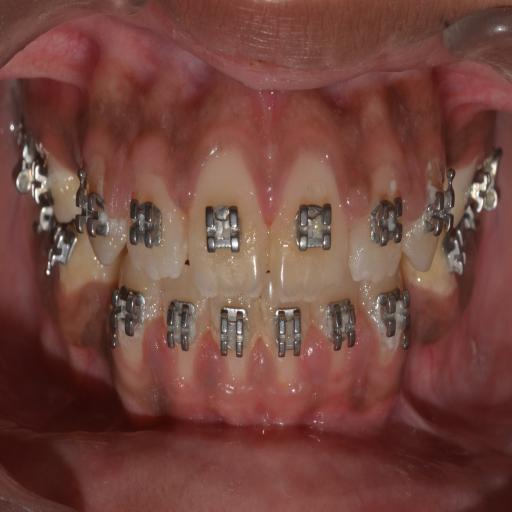correct_brace: (203, 188, 248, 270), (291, 192, 335, 266), (115, 287, 151, 363), (364, 191, 402, 259), (132, 196, 169, 260), (214, 303, 251, 367), (270, 304, 306, 368), (166, 300, 199, 367), (323, 298, 359, 356), (80, 192, 116, 247), (422, 186, 452, 252), (374, 297, 405, 353)
incorrect_brace: (127, 174, 187, 280), (350, 167, 402, 286), (162, 280, 208, 387), (316, 293, 364, 367)
